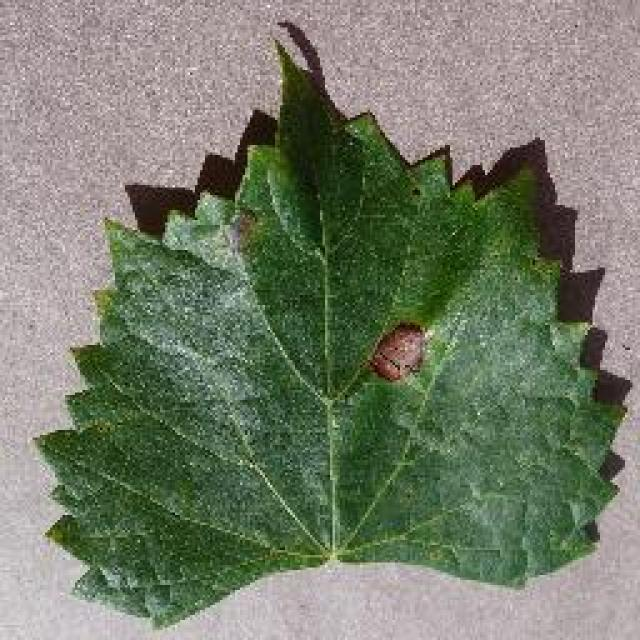Grape___Black_rot: (24, 35, 633, 634)
